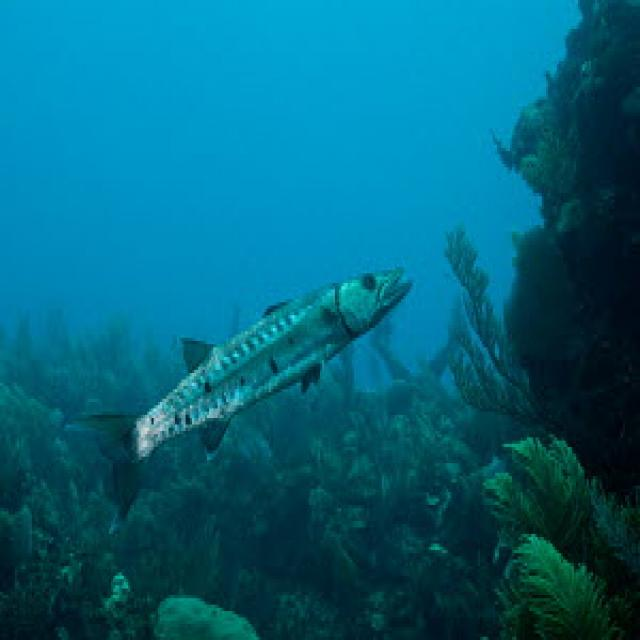Barracuda: (60, 261, 416, 537)
